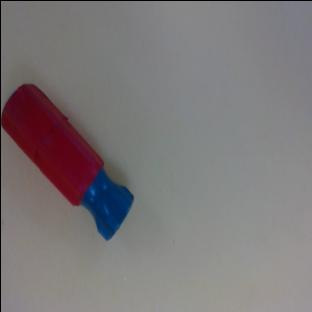part_2_good: (0, 76, 144, 245)
